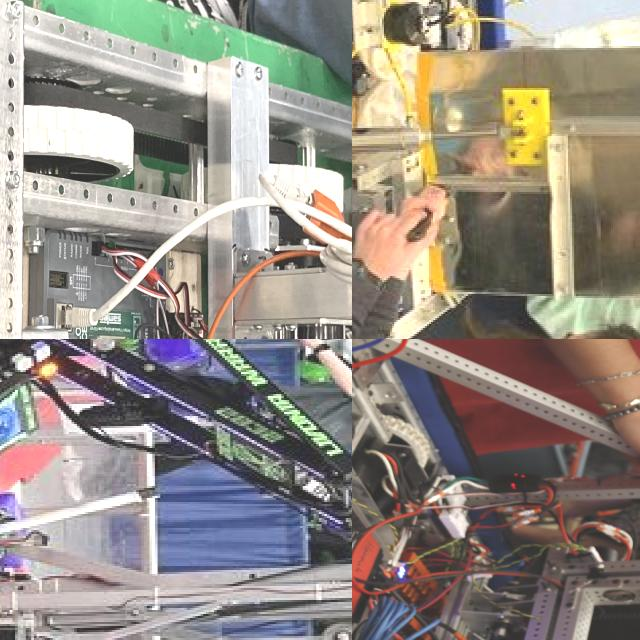FRC-Robots: (0, 339, 344, 640), (352, 0, 640, 323), (352, 339, 640, 640), (0, 515, 352, 640)
